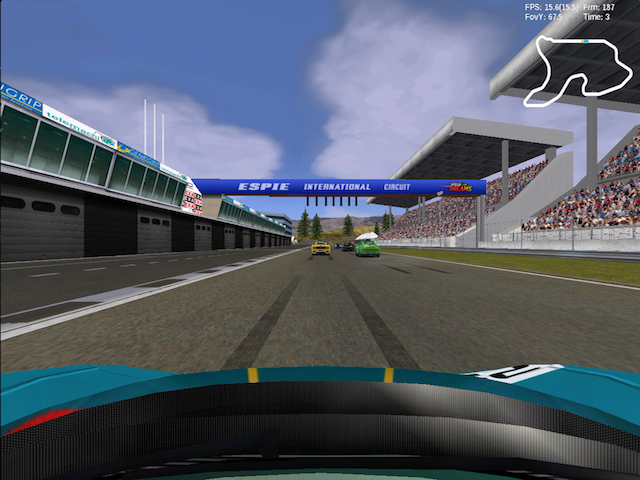Boxer96: (354, 241, 381, 257)
Cavallo360: (310, 241, 332, 256)
Spirit300: (342, 243, 353, 252)
